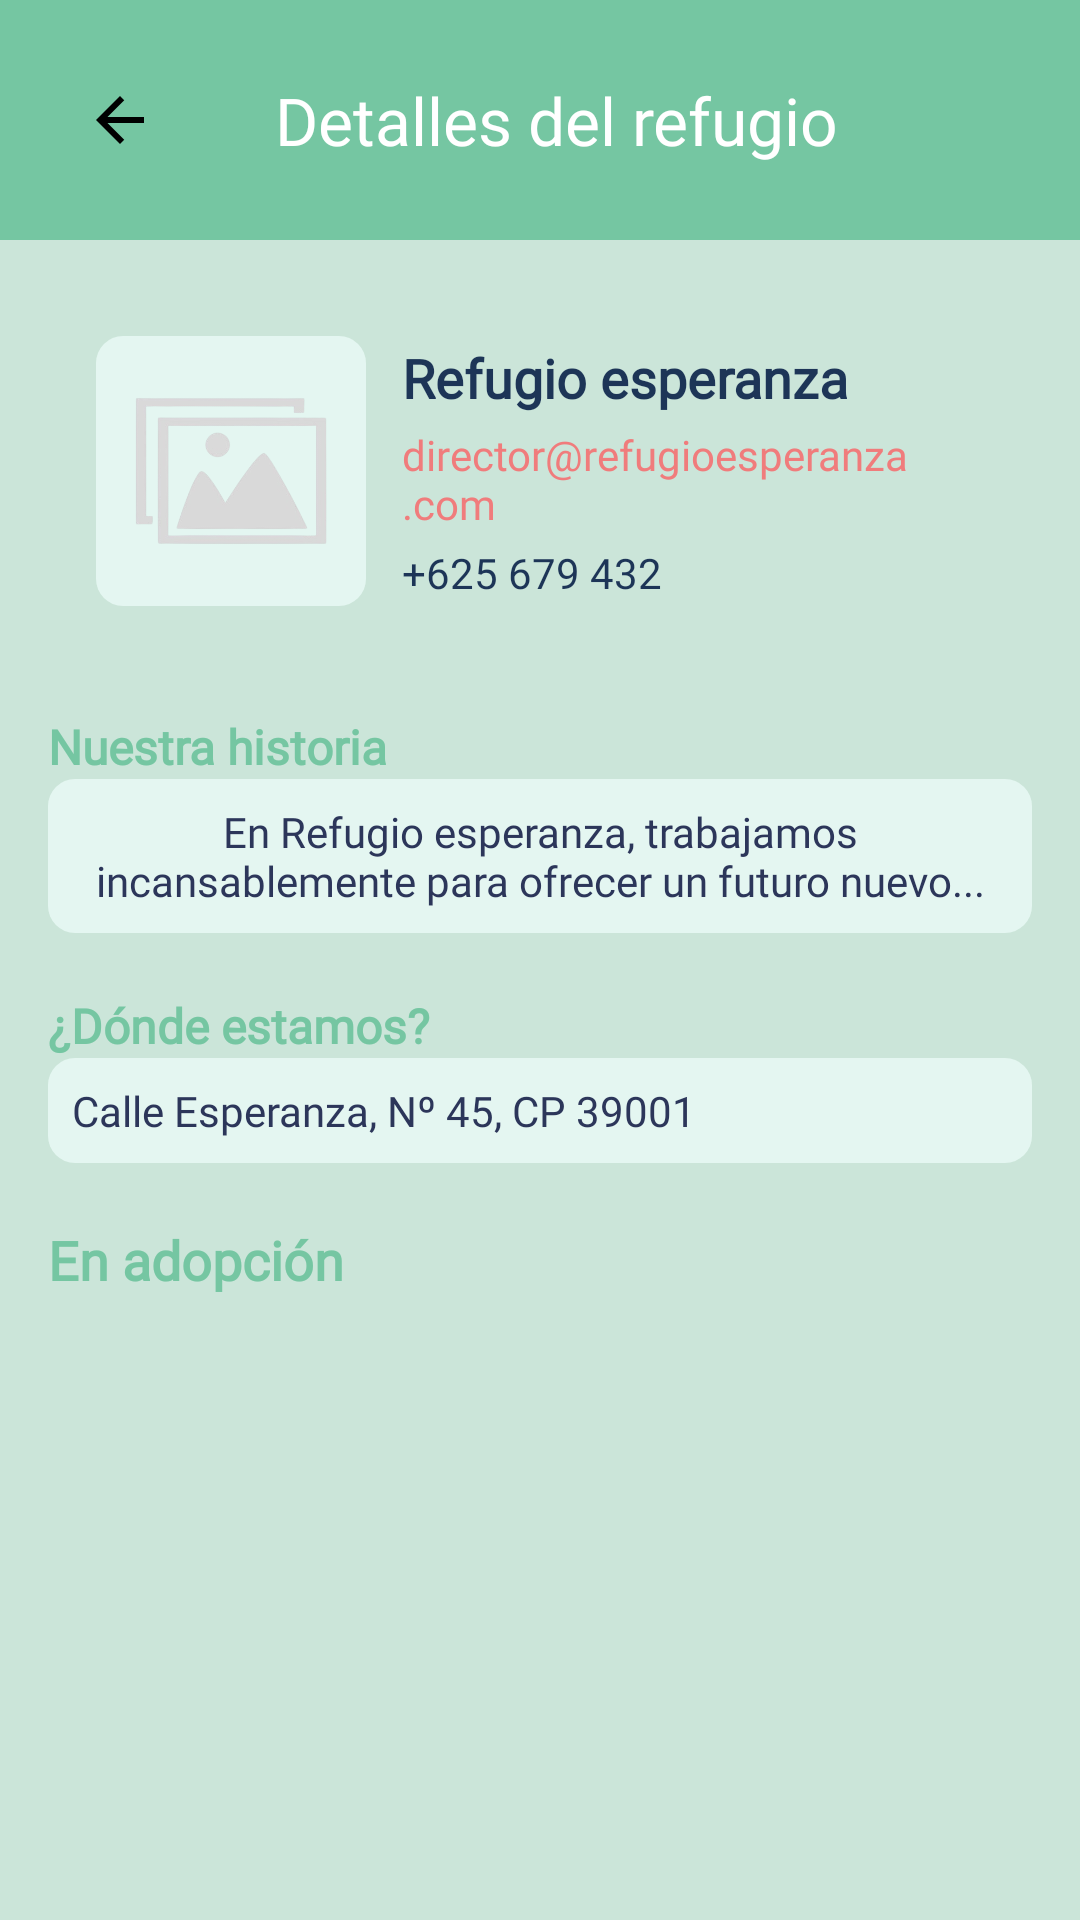

Icon click points for this 1080×1920 phone screenshot, format point (x, y):
Volver: point (120, 120)
